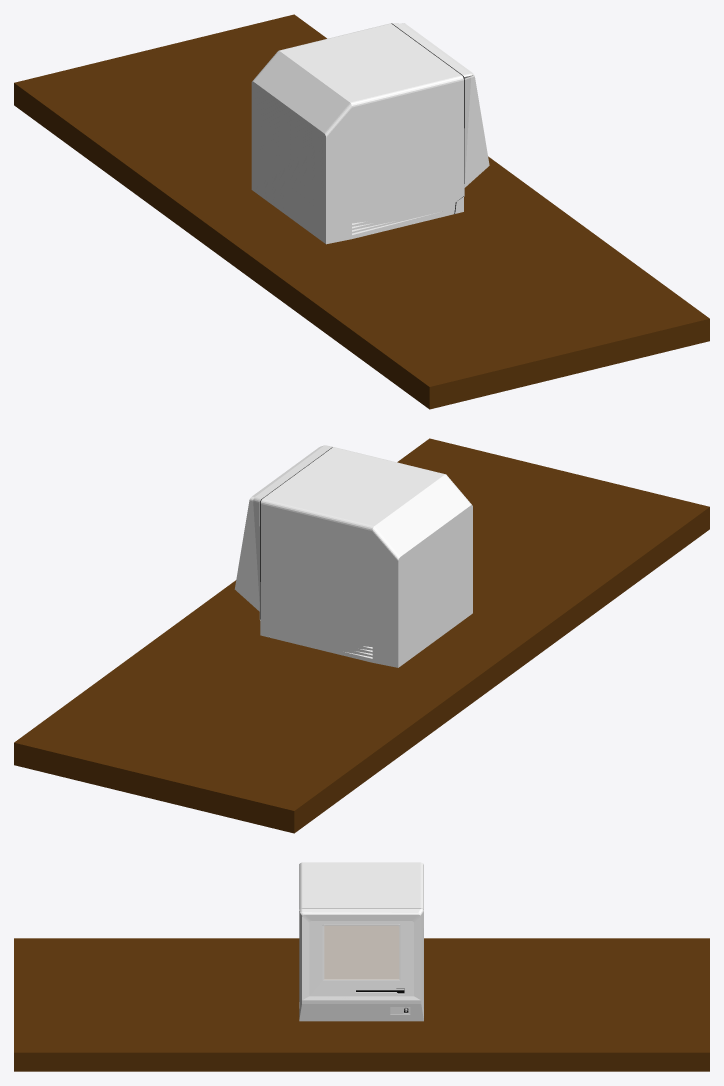
File: puter_1.obj
3 views of the same model, one above another, from view 1: azimuth 30°, elevation 25°; view 2: azimuth 150°, elevation 25°; view 3: azimuth 270°, elevation 25° (orthographic). The views are drawn at different scales.
Visible parts, largest first — view 1: Cube.001_Cube.002, Cube; view 2: Cube.001_Cube.002, Cube; view 3: Cube.001_Cube.002, Cube.
Boxes of the visible parts, left/top/right/bottom form: Cube.001_Cube.002: left=14, top=14, right=709, bottom=409; Cube: left=251, top=23, right=489, bottom=244; Cube.001_Cube.002: left=14, top=438, right=709, bottom=833; Cube: left=234, top=445, right=472, bottom=667; Cube.001_Cube.002: left=14, top=938, right=709, bottom=1071; Cube: left=299, top=862, right=423, bottom=1021.
Bounding box in the file's own units: 4.34 × 2.34 × 11.15.
